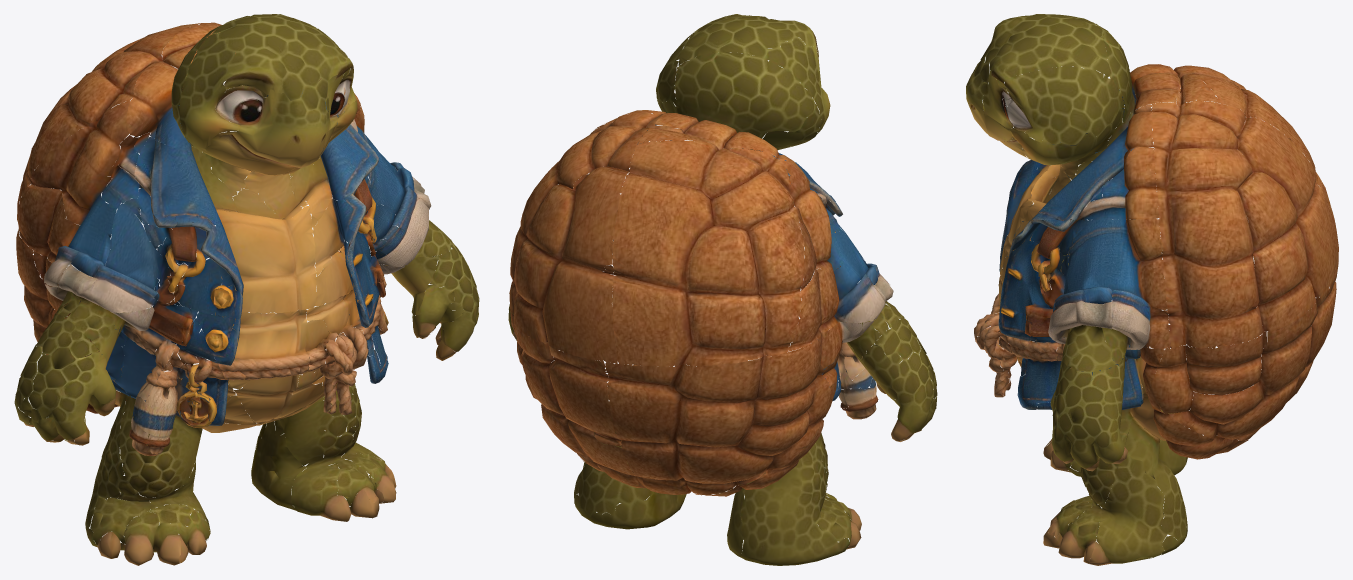
Rendered from 13_dock_turtle-v1.glb.
The picture shows the model from 3 angles, left to right: view 1: azimuth 30°, elevation 25°; view 2: azimuth 150°, elevation 25°; view 3: azimuth 270°, elevation 25°; orthographic projection. The views are drawn at different scales.
Visible parts, largest first — view 1: tripo_node_406ba946-6628-4f65-abc5-4551b3bb417b; view 2: tripo_node_406ba946-6628-4f65-abc5-4551b3bb417b; view 3: tripo_node_406ba946-6628-4f65-abc5-4551b3bb417b.
Part boxes in pixels (x1,y1,x2,y2): tripo_node_406ba946-6628-4f65-abc5-4551b3bb417b: (14,14,479,565); tripo_node_406ba946-6628-4f65-abc5-4551b3bb417b: (508,14,937,565); tripo_node_406ba946-6628-4f65-abc5-4551b3bb417b: (966,14,1338,565).
Size of the model in its own units: 1.51 by 1.65 by 1.17.
1 material, 1 textured.
